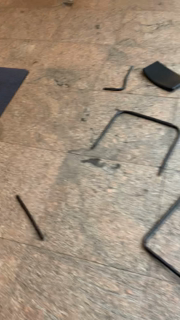Back: (139, 59, 180, 95)
C pipe: (89, 109, 179, 179)
L pipe: (101, 65, 135, 93)
i pipe: (14, 192, 46, 243)
